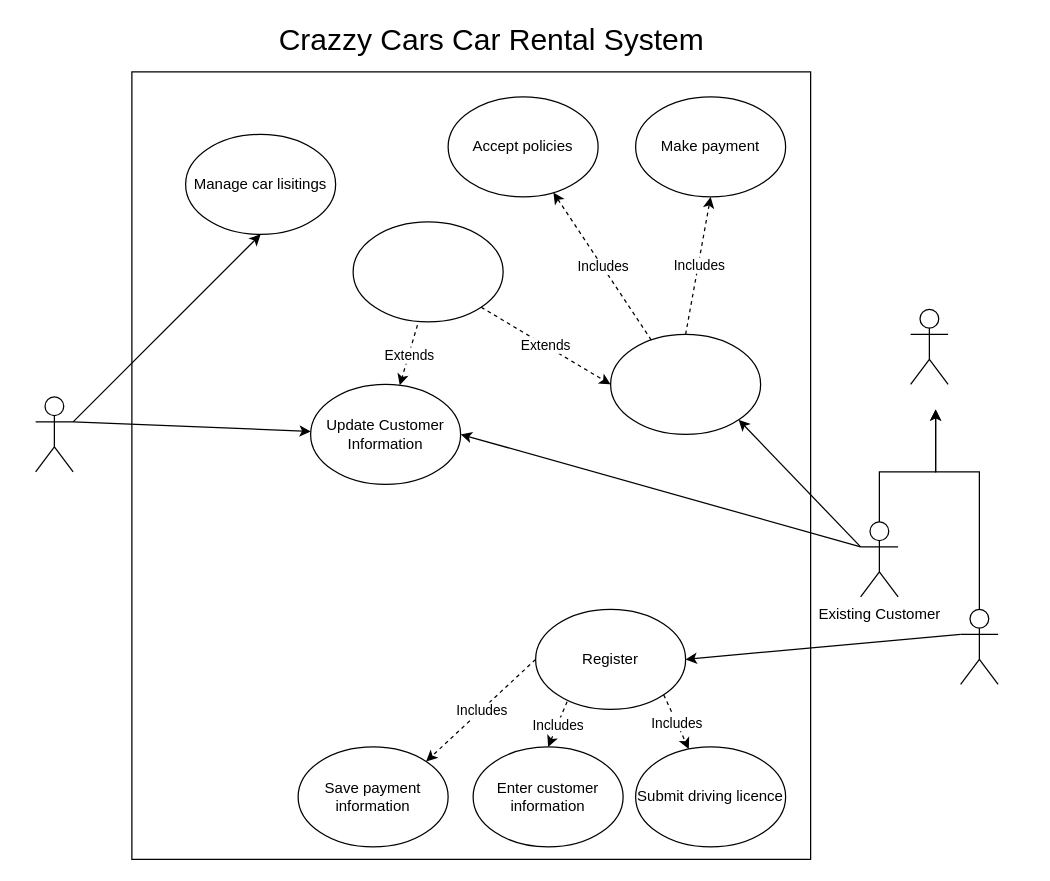
Some shapes in this 1050 by 881 pixel diagram are drawn without their labels. The shapes that lost their labels are listed below. From the top down, each one's centre as x and y in pixels, then its label:
(427,271): Contact the employee
(928,346): Customer
(685,383): Book a car
(53,434): Employee
(978,646): New Customer
